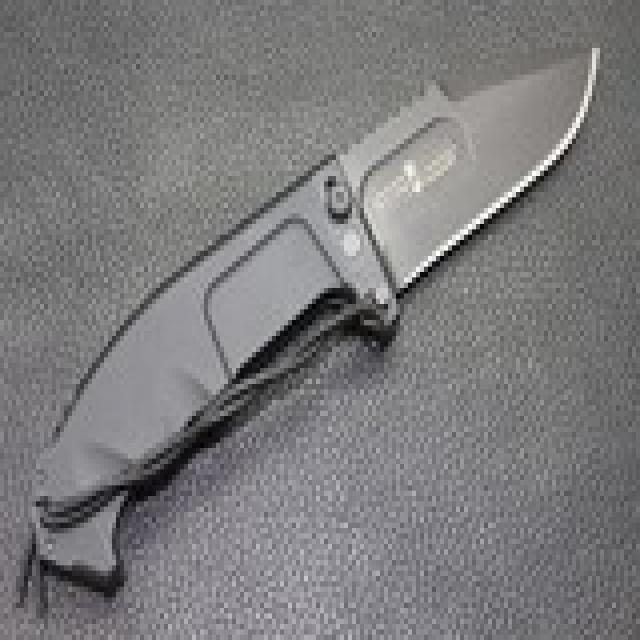Knife: (24, 40, 603, 608)
